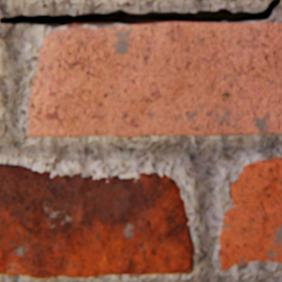brick: (30, 21, 281, 136), (0, 163, 193, 277), (220, 157, 281, 268)
crack: (1, 0, 280, 27)
